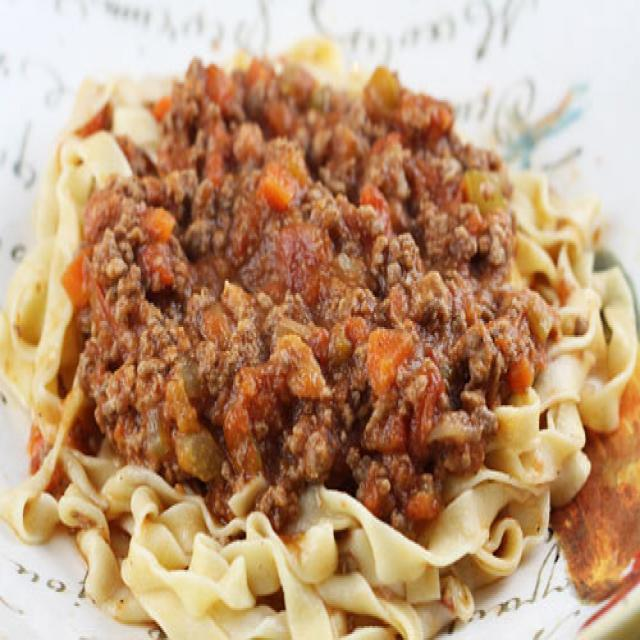Pasta al ragu: (34, 46, 629, 586)
